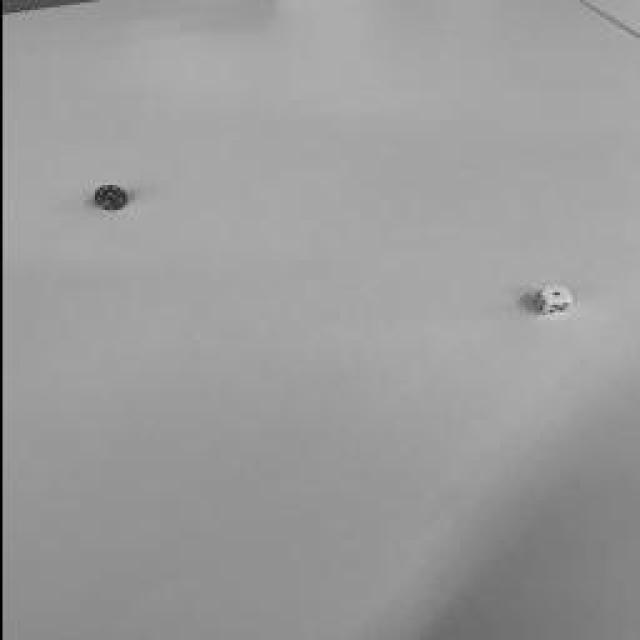dice_1: (540, 288, 570, 302)
dice_4: (94, 186, 121, 199)
